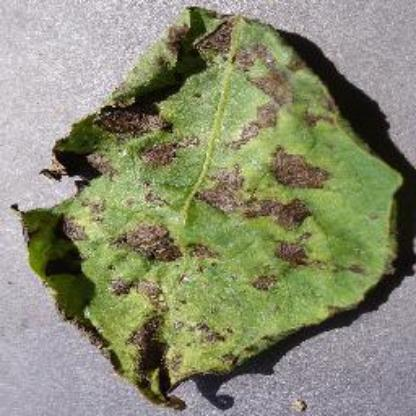Early-Blight: (11, 0, 408, 414)
